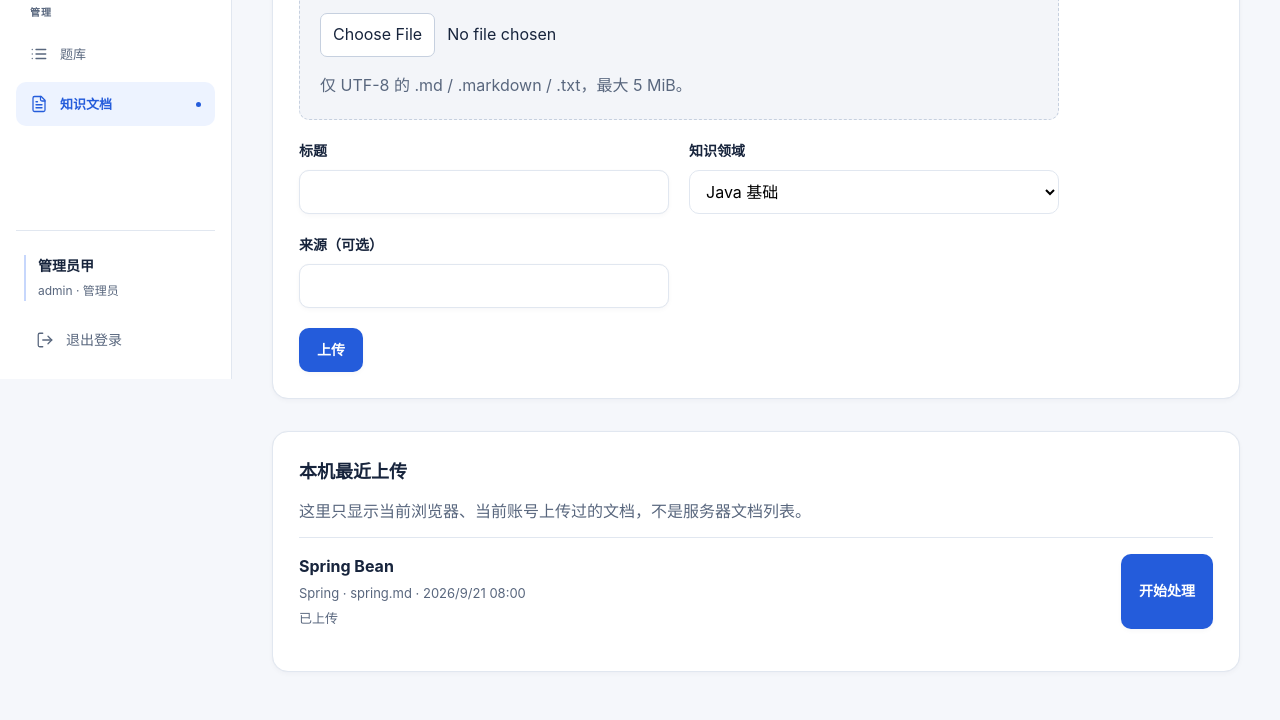
Test: Admin knowledge › marks process success as READY and does not expose rebuild
The image size is (1280, 720).
(page scrolled)
Step 1. Click the button "开始处理" → (1167, 591), box [1121,554,1213,629]
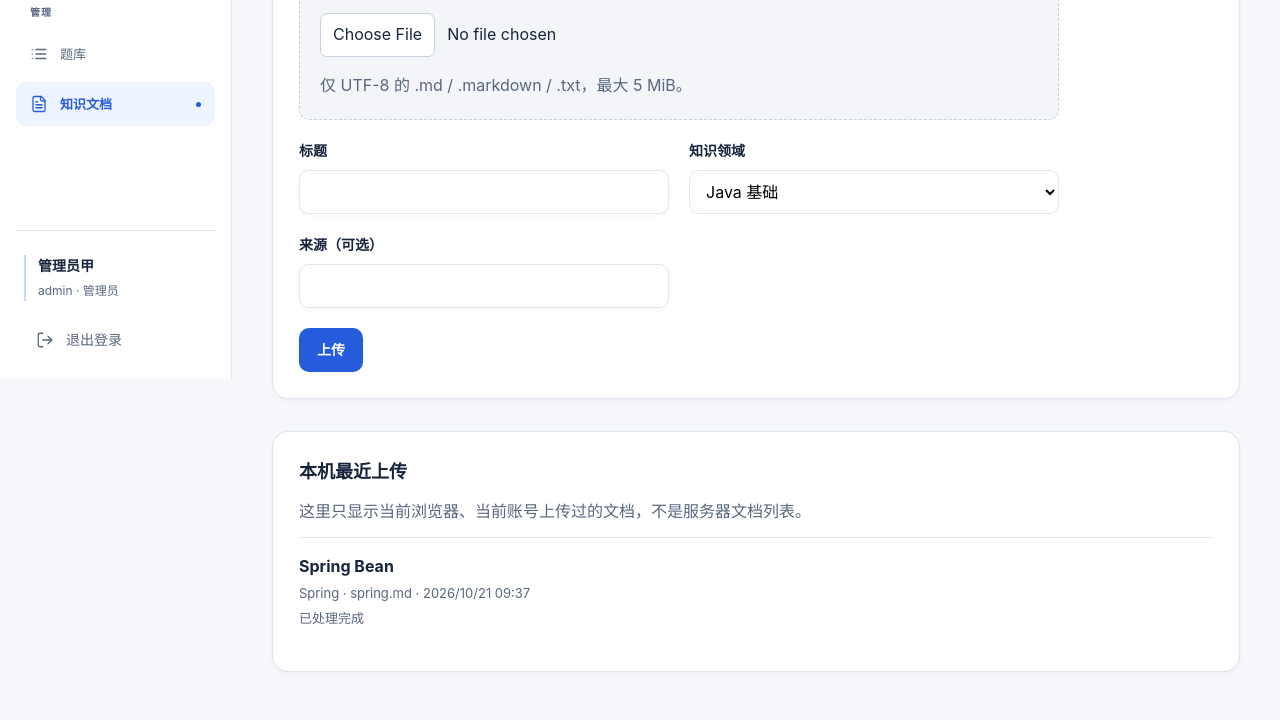
expect the text "已处理完成" is shown: met, box [299,610,364,626]
